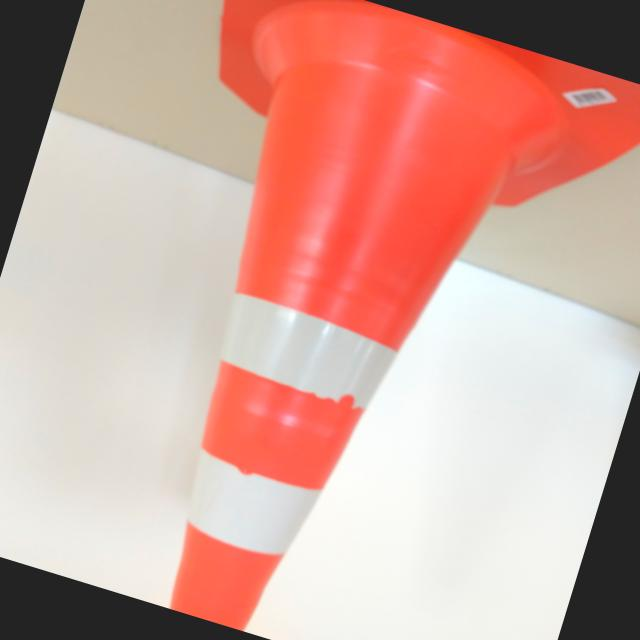cone: (39, 0, 624, 640)
